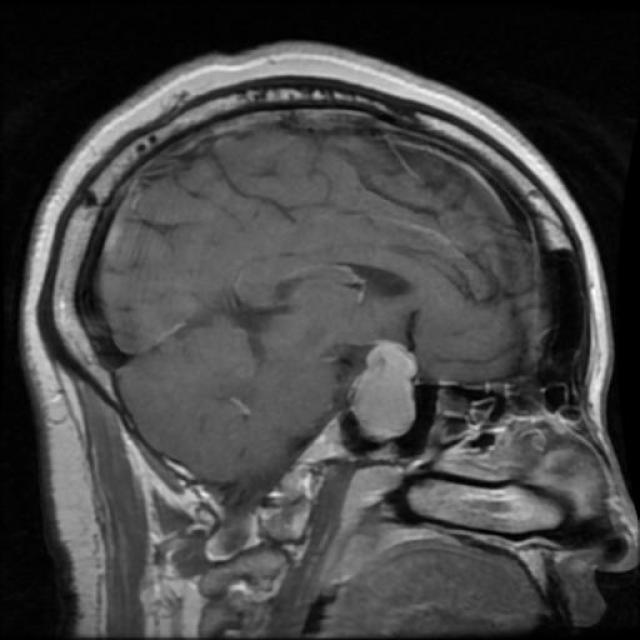brain_tumor: (350, 342, 421, 444)
